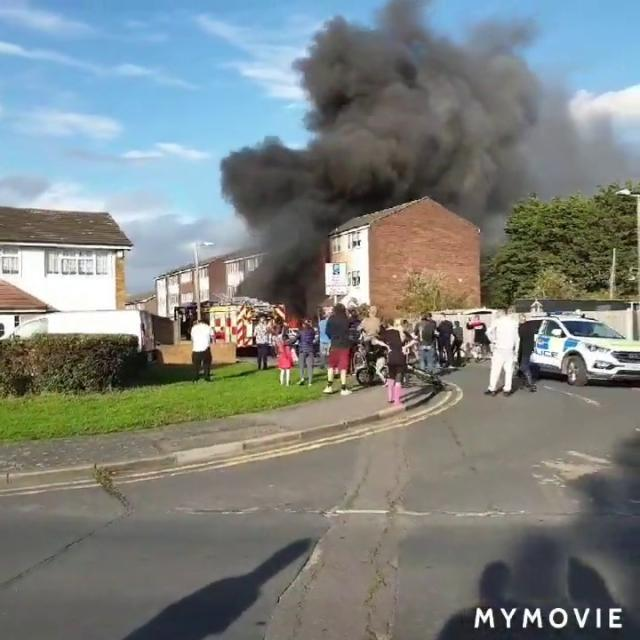Smoke: (216, 0, 561, 284)
